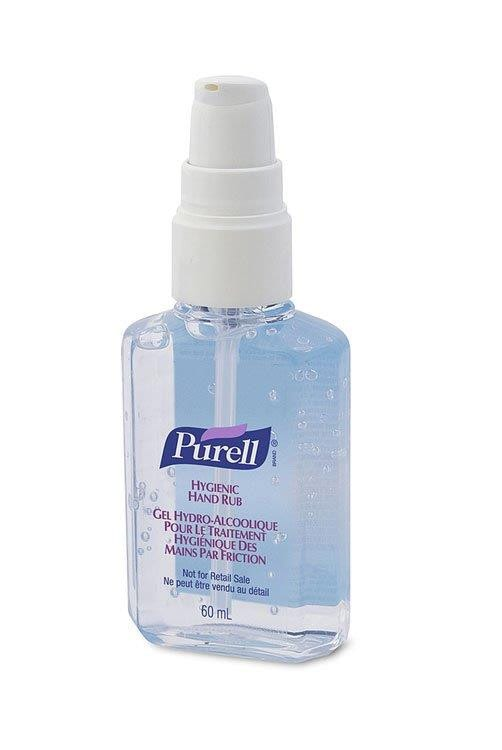Sanitizer: (103, 67, 362, 671)
